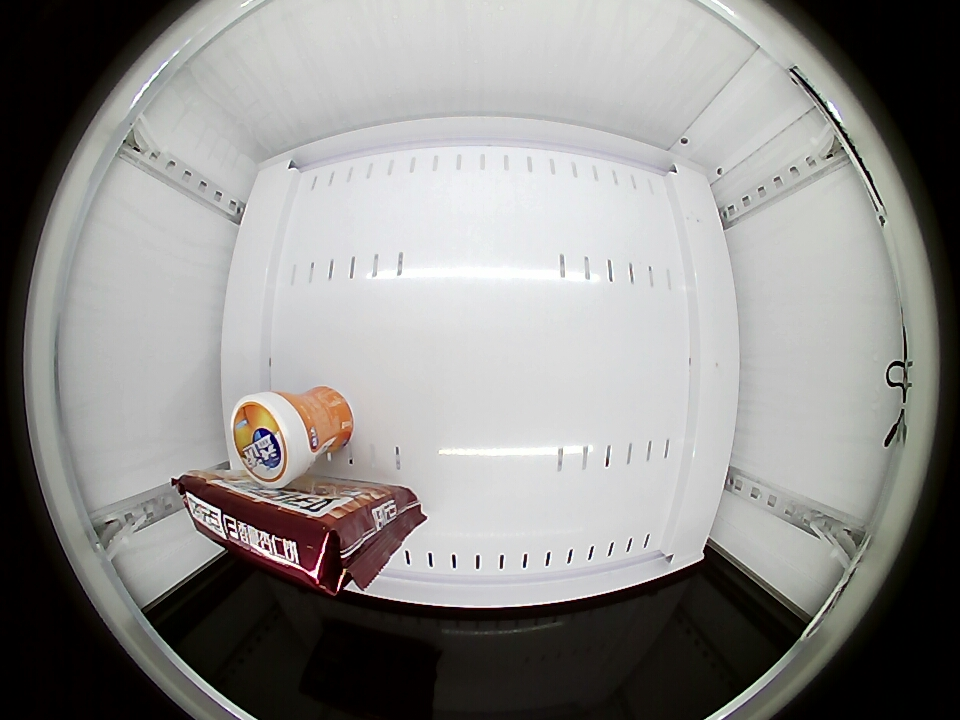haochidian: (178, 474, 363, 592)
